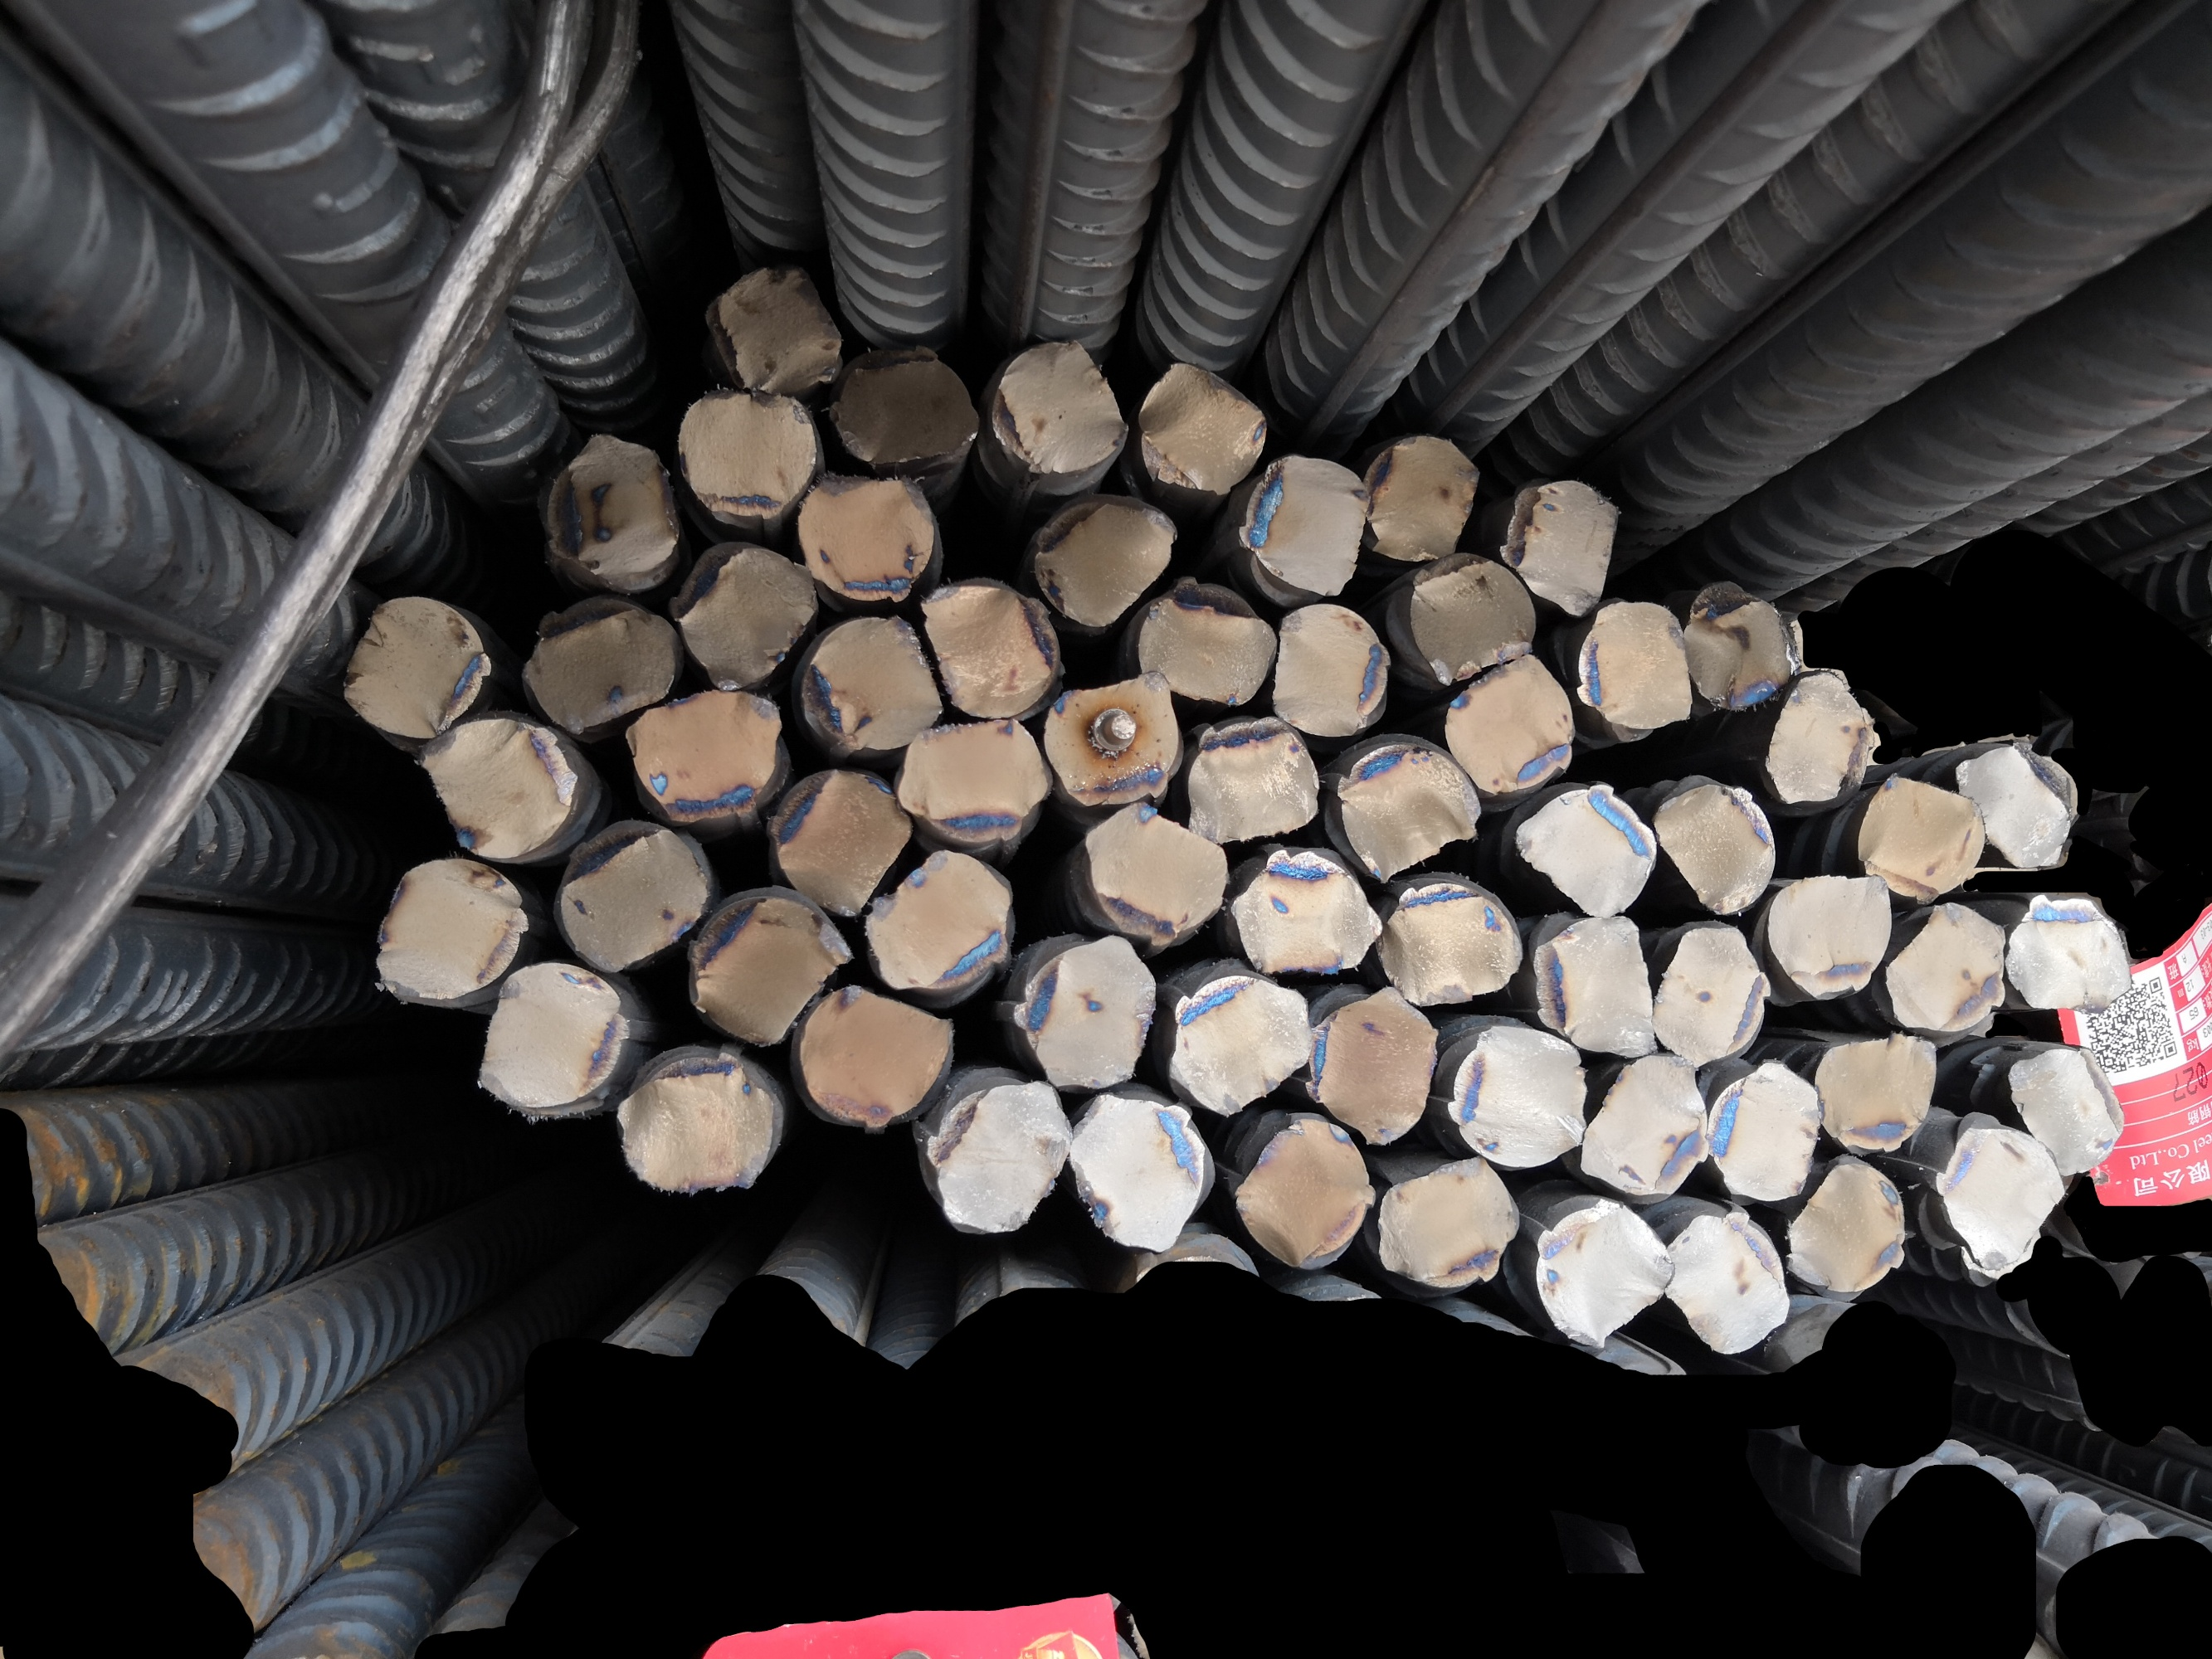rebar: (680, 885, 851, 1053), (608, 1049, 788, 1197), (408, 711, 580, 864), (788, 979, 959, 1133), (474, 957, 633, 1121), (551, 821, 713, 979), (664, 535, 819, 697), (924, 1073, 1075, 1239), (758, 760, 913, 920), (370, 856, 532, 1009), (1065, 1089, 1213, 1256), (1008, 931, 1159, 1093), (516, 589, 682, 737), (1231, 1114, 1381, 1274), (619, 685, 784, 826), (342, 589, 493, 742), (1530, 1192, 1675, 1352), (915, 572, 1065, 725), (858, 847, 1014, 993), (1299, 986, 1440, 1148), (1333, 734, 1483, 885), (1166, 969, 1316, 1121), (1028, 484, 1182, 633), (1081, 796, 1229, 950), (790, 612, 947, 755), (539, 427, 680, 582), (1447, 1019, 1590, 1171), (987, 333, 1133, 479), (824, 340, 983, 474), (1227, 843, 1386, 978), (1234, 450, 1374, 601), (1041, 666, 1185, 810), (1438, 650, 1579, 798), (1377, 873, 1527, 1012), (894, 713, 1049, 847), (793, 467, 938, 610), (1131, 572, 1281, 709), (675, 385, 821, 525), (1511, 782, 1658, 922), (1529, 908, 1659, 1063), (1931, 1126, 2066, 1276), (1578, 1051, 1712, 1199), (1133, 359, 1271, 500), (1377, 1159, 1523, 1291), (1659, 1209, 1790, 1358), (704, 261, 847, 396), (1178, 714, 1323, 847), (1403, 549, 1539, 687), (1651, 775, 1780, 920), (1499, 472, 1623, 622), (1572, 589, 1696, 739), (1353, 430, 1483, 568), (1884, 899, 2010, 1042), (1649, 924, 1771, 1070), (1267, 601, 1393, 742), (1858, 774, 1987, 906), (1706, 1056, 1822, 1204), (2005, 1040, 2127, 1180), (1761, 870, 1891, 999), (2003, 890, 2134, 1019), (1785, 1159, 1907, 1297), (1762, 664, 1876, 810), (1682, 575, 1801, 714), (1952, 741, 2074, 873), (1813, 1032, 1938, 1155)
